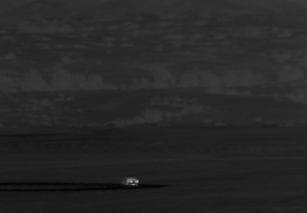Target: (127, 177, 139, 184)
